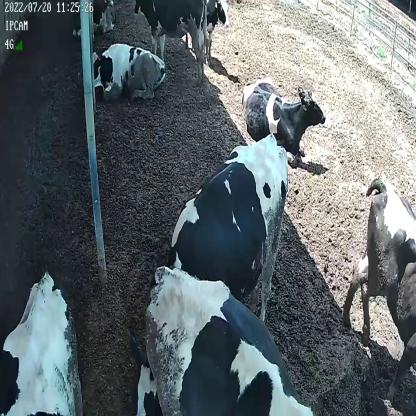cow: (127, 134, 290, 416), (240, 75, 326, 157), (134, 1, 212, 86), (90, 41, 166, 98)
